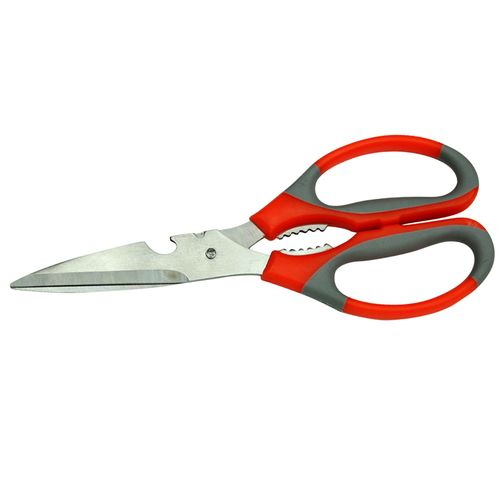scissor: (8, 133, 497, 318)
